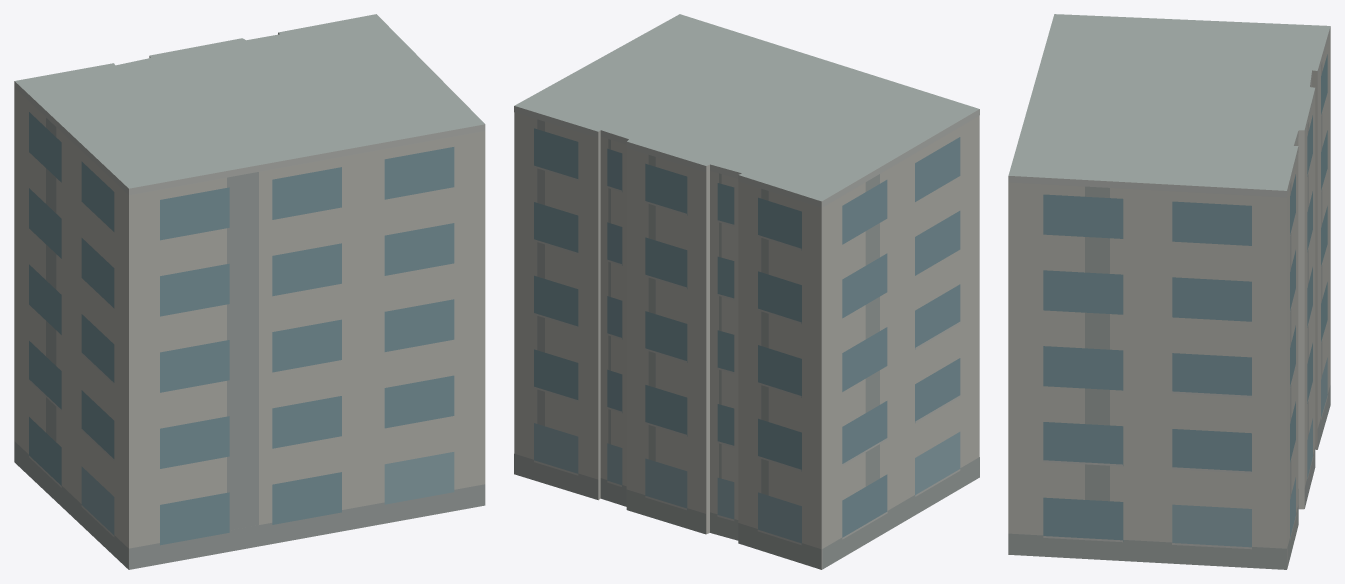
File: survey-upis-32700428.glb
The picture shows the model from 3 angles, left to right: view 1: azimuth 30°, elevation 25°; view 2: azimuth 150°, elevation 25°; view 3: azimuth 270°, elevation 25°; orthographic projection. The views are drawn at different scales.
Visible parts, largest first — view 1: survey-upis-32700428.tmp; view 2: survey-upis-32700428.tmp; view 3: survey-upis-32700428.tmp.
Part boxes in pixels (left/top/right/bottom): survey-upis-32700428.tmp: left=14, top=14, right=485, bottom=569; survey-upis-32700428.tmp: left=514, top=14, right=979, bottom=569; survey-upis-32700428.tmp: left=1008, top=14, right=1330, bottom=569.
Size of the model in its own units: 14.03 by 14 by 10.8.
